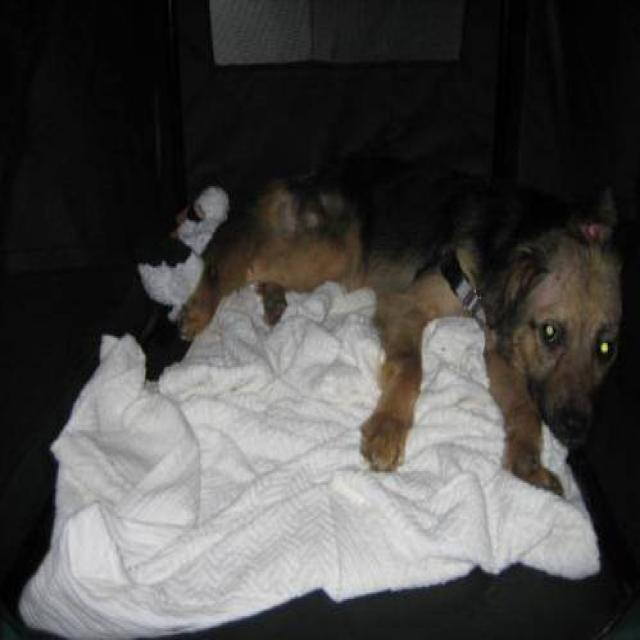dog: (173, 154, 625, 495)
